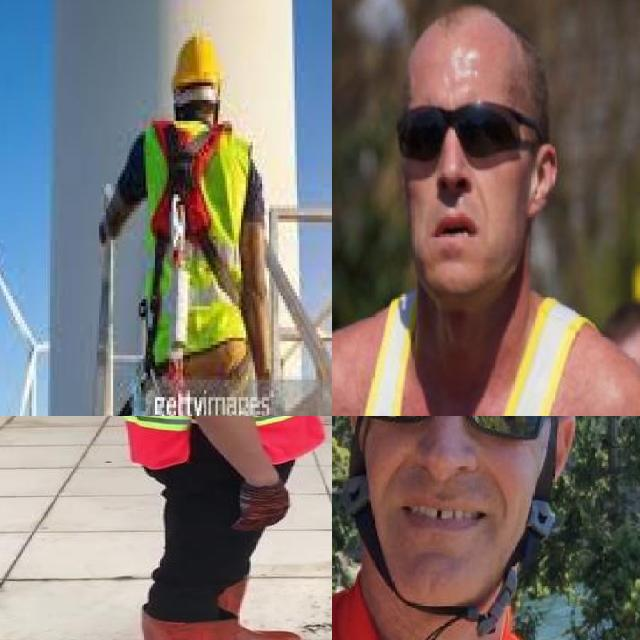Harness: (151, 122, 242, 302)
boots: (140, 605, 302, 640)
face_nomask: (359, 416, 533, 552), (396, 108, 520, 254)
glasses: (398, 107, 544, 159), (349, 416, 558, 451)
hand_glove: (230, 484, 292, 531)
head_nohelmet: (408, 12, 526, 80)
person: (332, 13, 640, 416), (332, 416, 617, 640), (83, 416, 332, 640)
vest: (119, 416, 325, 470)
